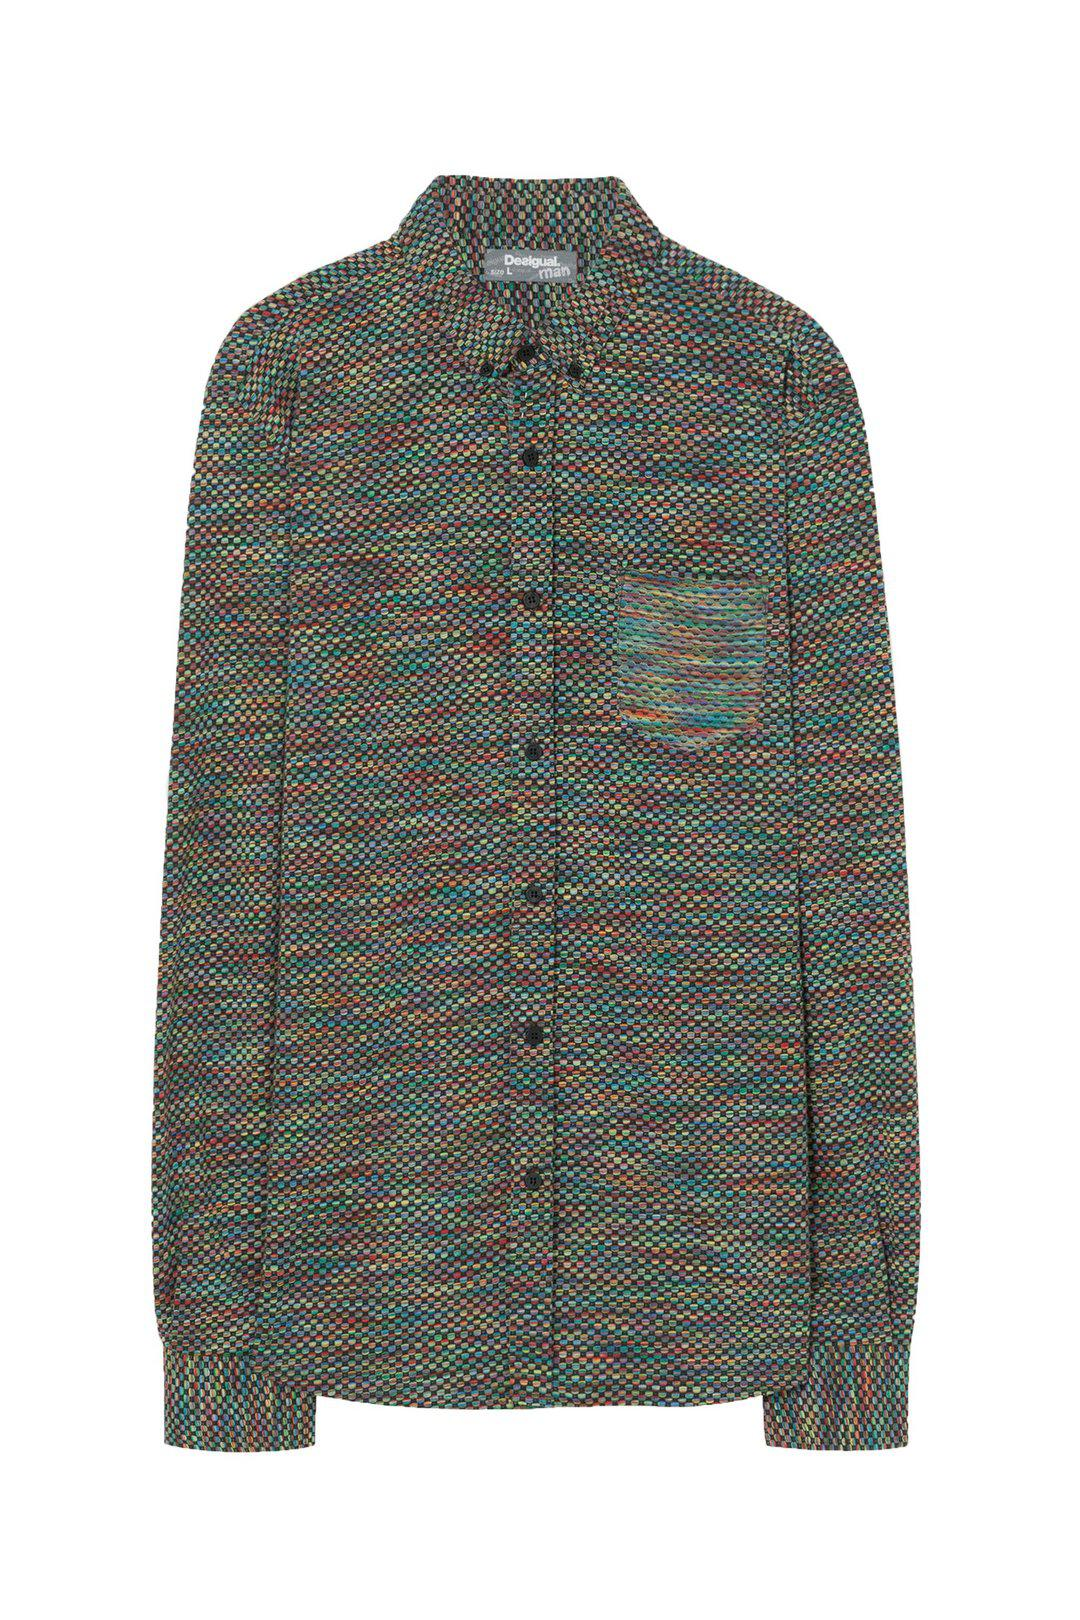teeshirt: (106, 170, 938, 1502)
